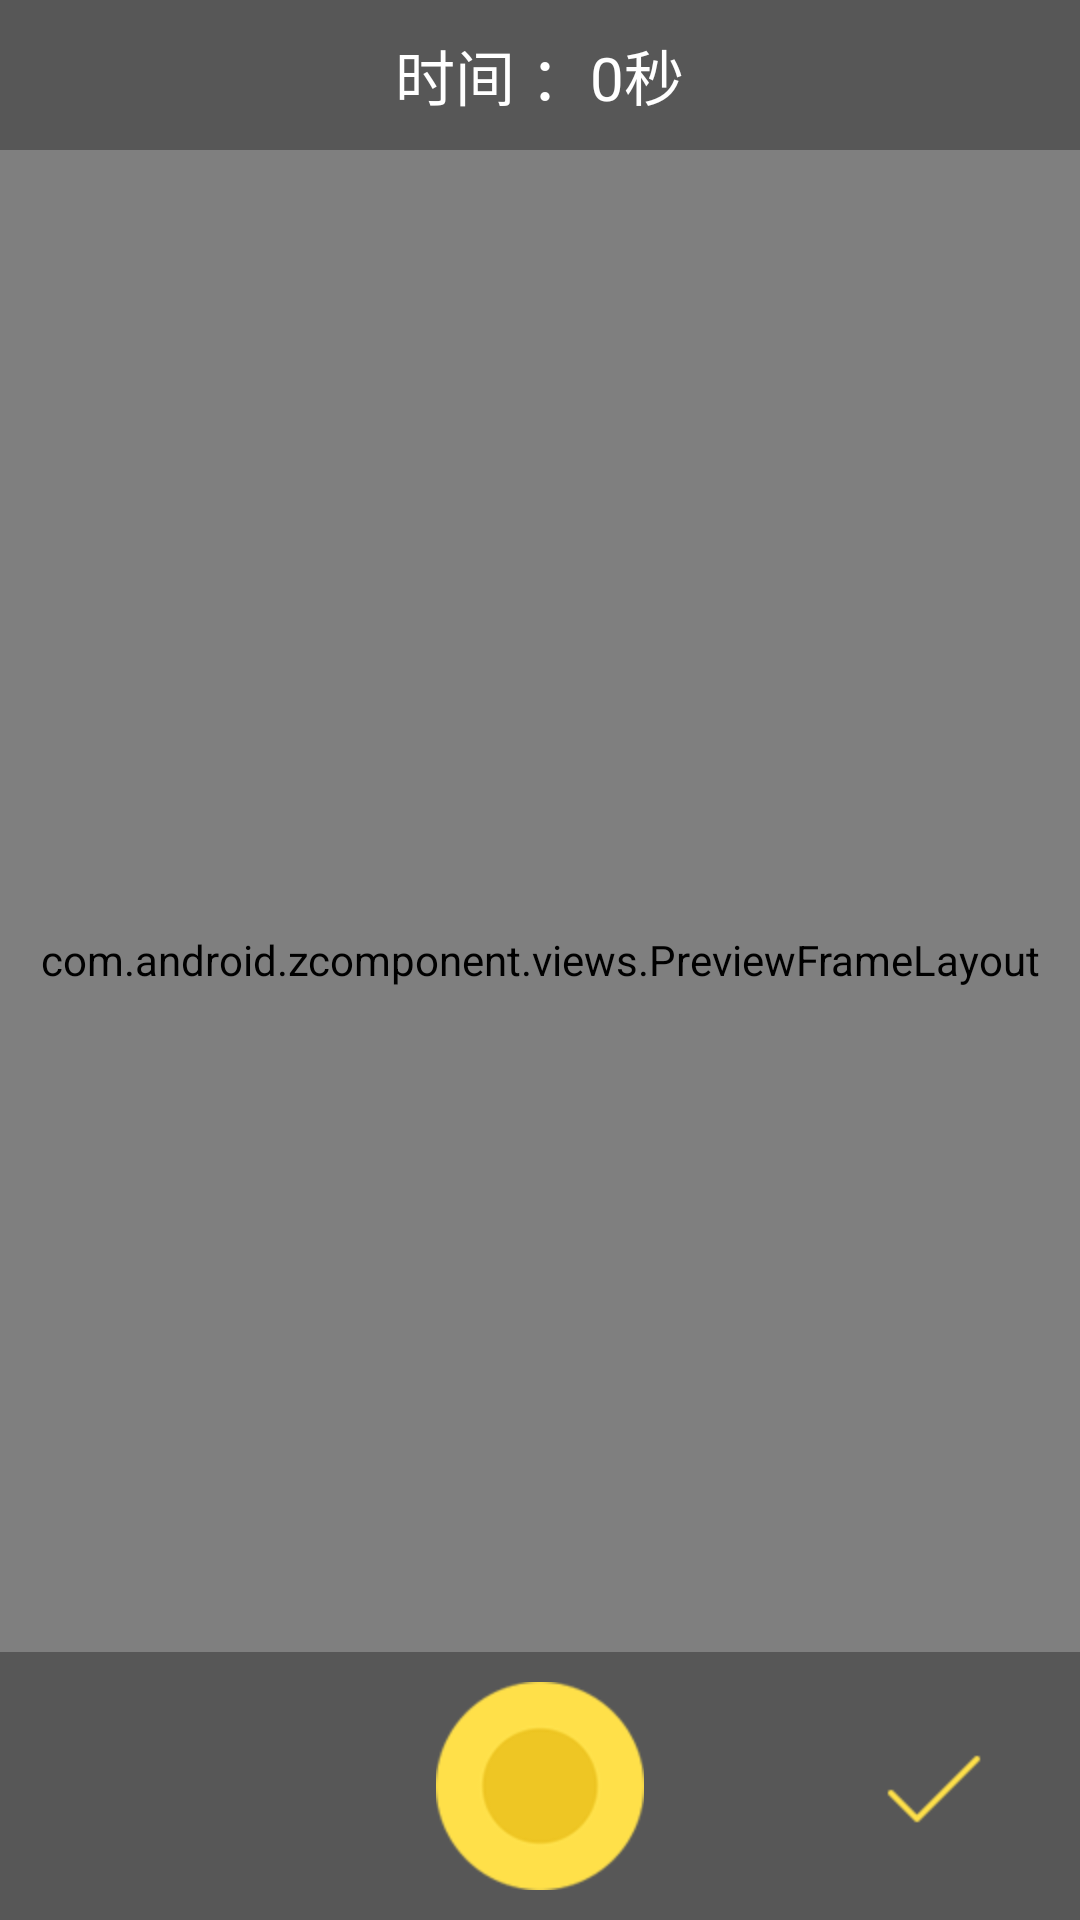

Where to tap for icons on this 1080*1920 app screen, as (x=x, y=y):
camera submit: (x=934, y=1789)
record video: (x=540, y=1786)
